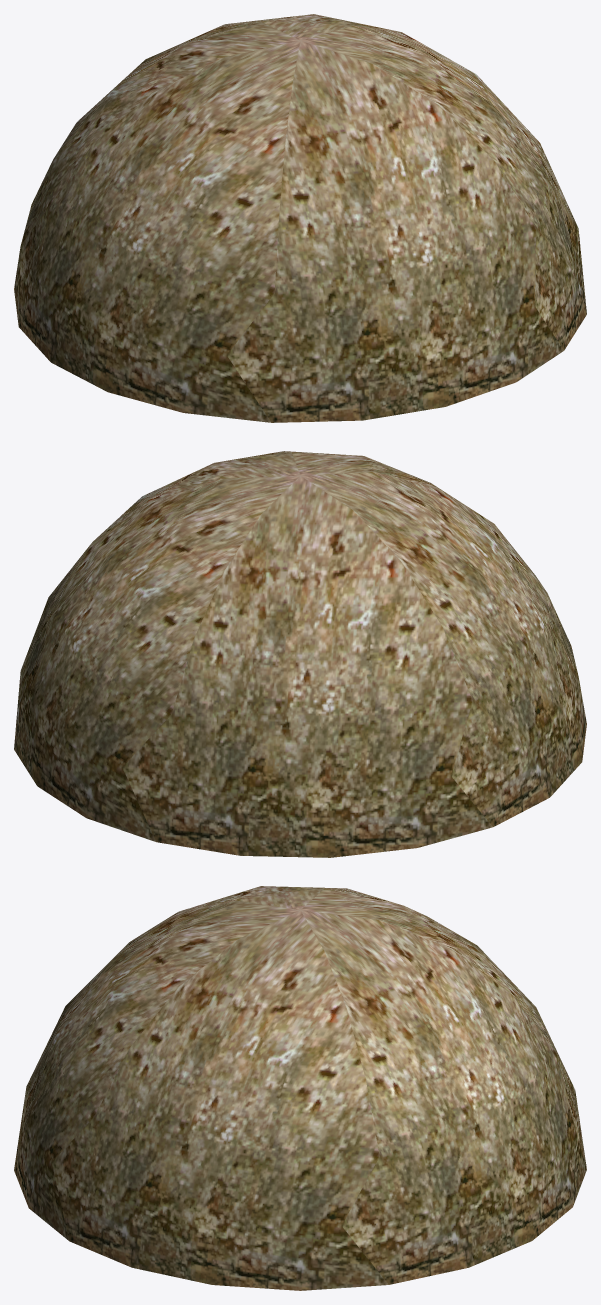
File: M5Z1_VillageExt_02A.glb
3 renders of one model, top to bottom at view 1: azimuth 30°, elevation 25°; view 2: azimuth 150°, elevation 25°; view 3: azimuth 270°, elevation 25°, orthographic.
Parts seen in each view (by area): view 1: M5Z1_VILLAGEEXT_02A; view 2: M5Z1_VILLAGEEXT_02A; view 3: M5Z1_VILLAGEEXT_02A.
Boxes of the visible parts, x1,y1,x2,y2 form: M5Z1_VILLAGEEXT_02A: [14, 14, 586, 422]; M5Z1_VILLAGEEXT_02A: [14, 451, 586, 857]; M5Z1_VILLAGEEXT_02A: [14, 886, 586, 1290].
Size of the model in its own units: 10 by 5 by 10.
Materials: 1 (1 with a texture image).
